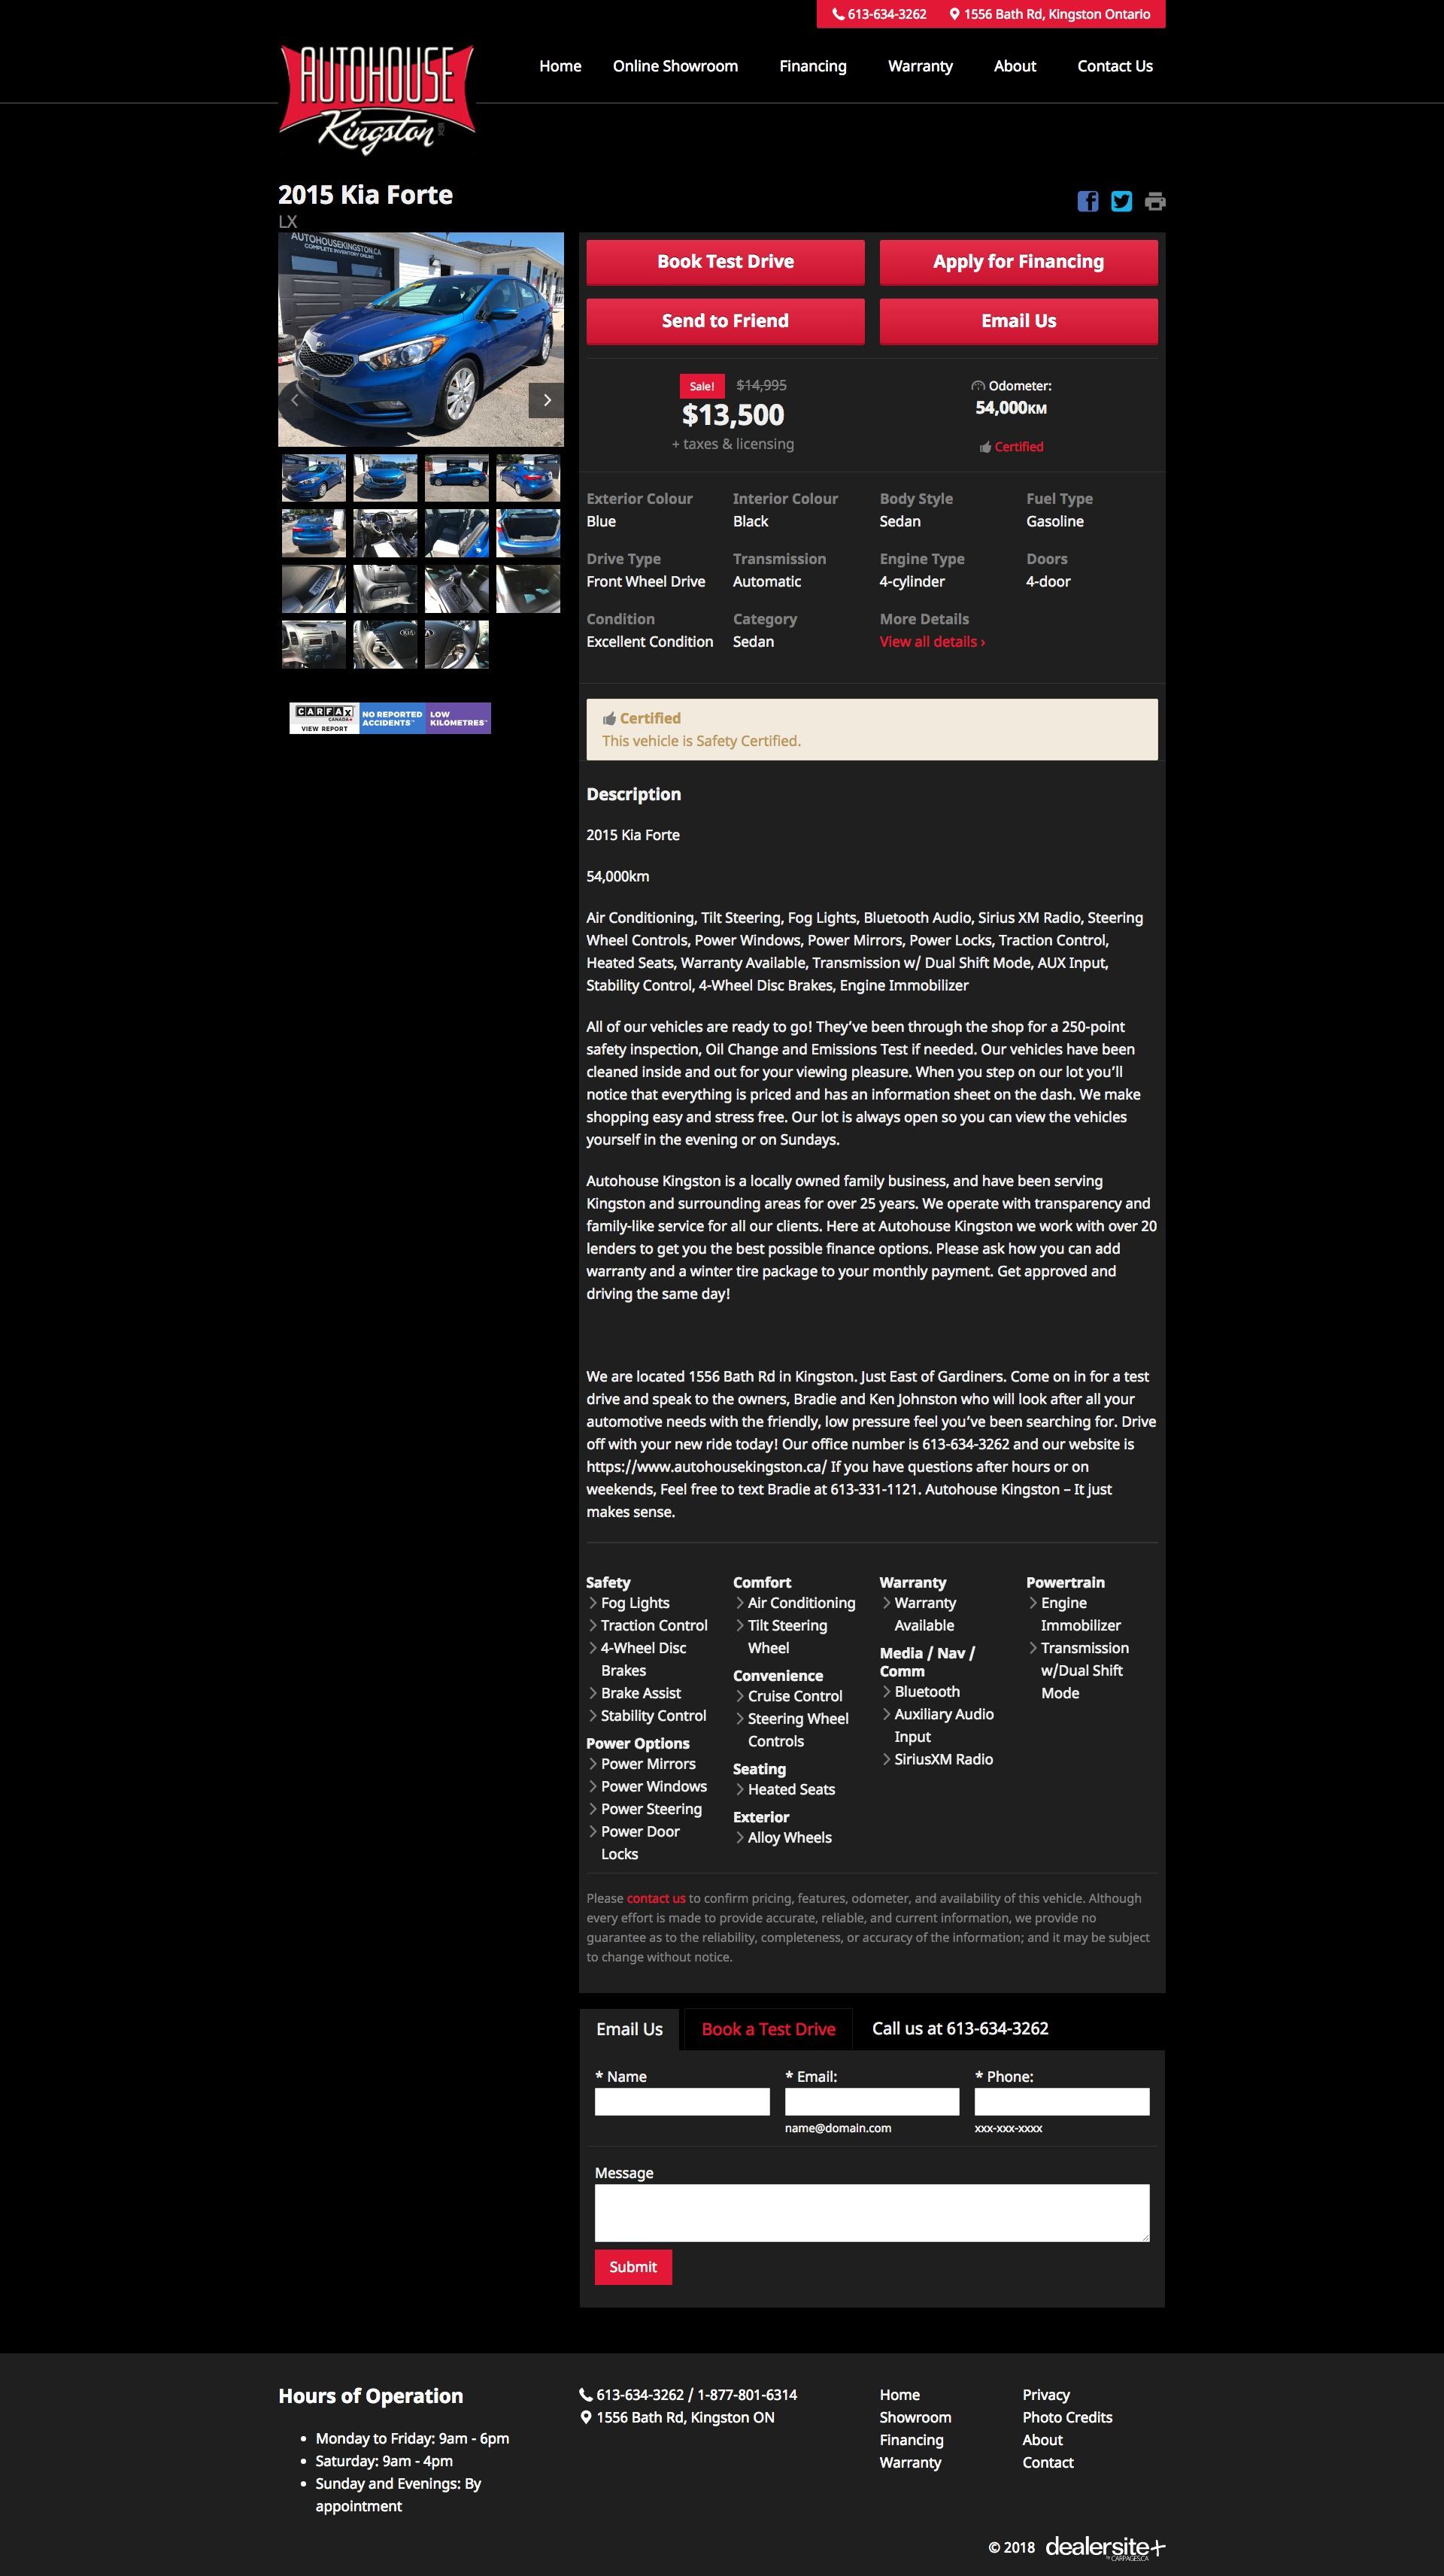car: (527, 380, 568, 421)
